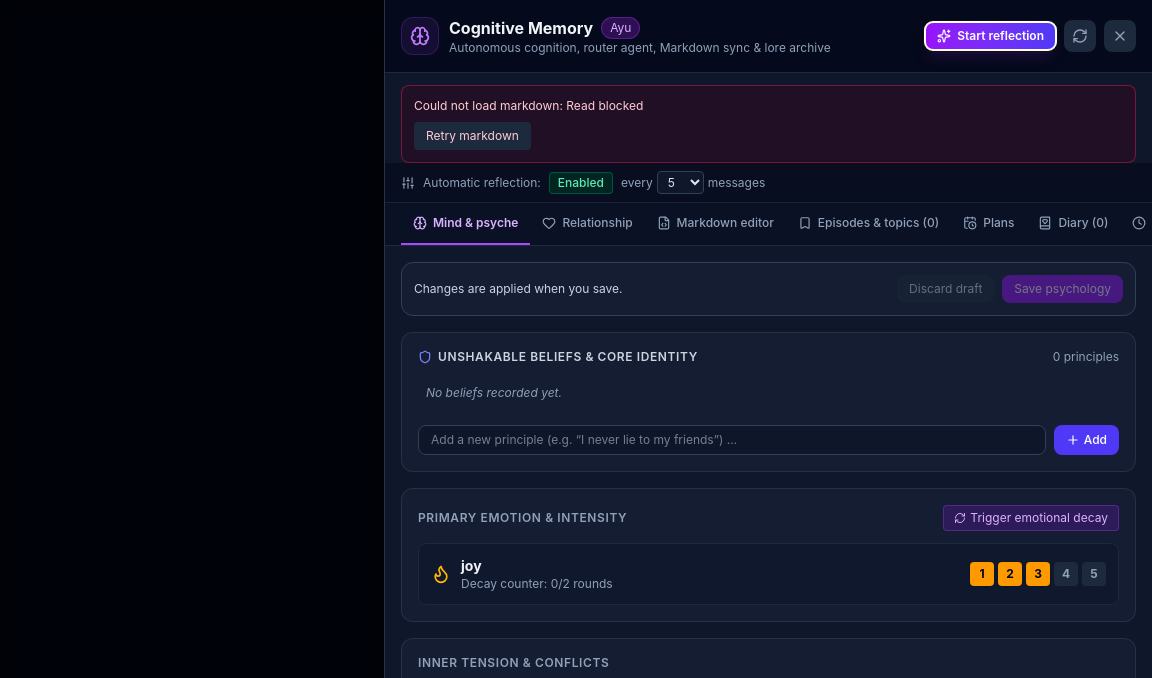
Test: memory operations › retains successful restore despite failed markdown refresh and allows a read-only retry
Expected: the message "Could not load markdown: Read blocked Retry markdown" is shown, x1=401 y1=85 x2=1136 y2=163
Click the button "Retry markdown".
click(472, 136)  # box x1=414 y1=122 x2=531 y2=150
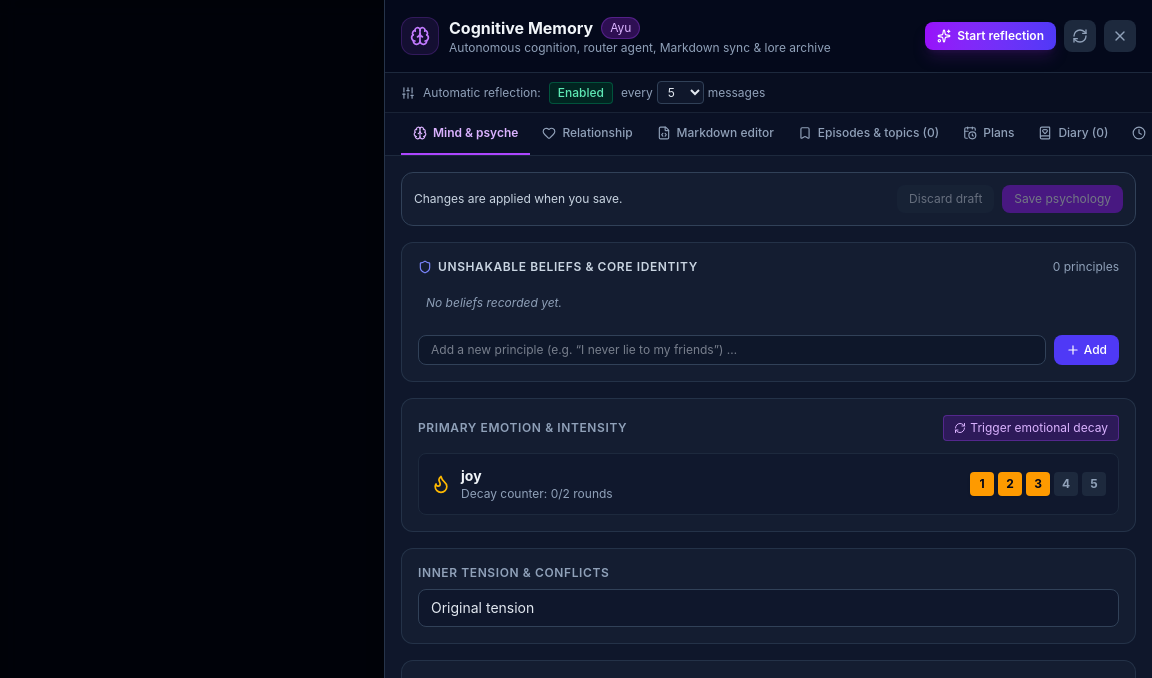
Expected: the message "Could not load markdown: Read blocked Retry markdown" is gone
